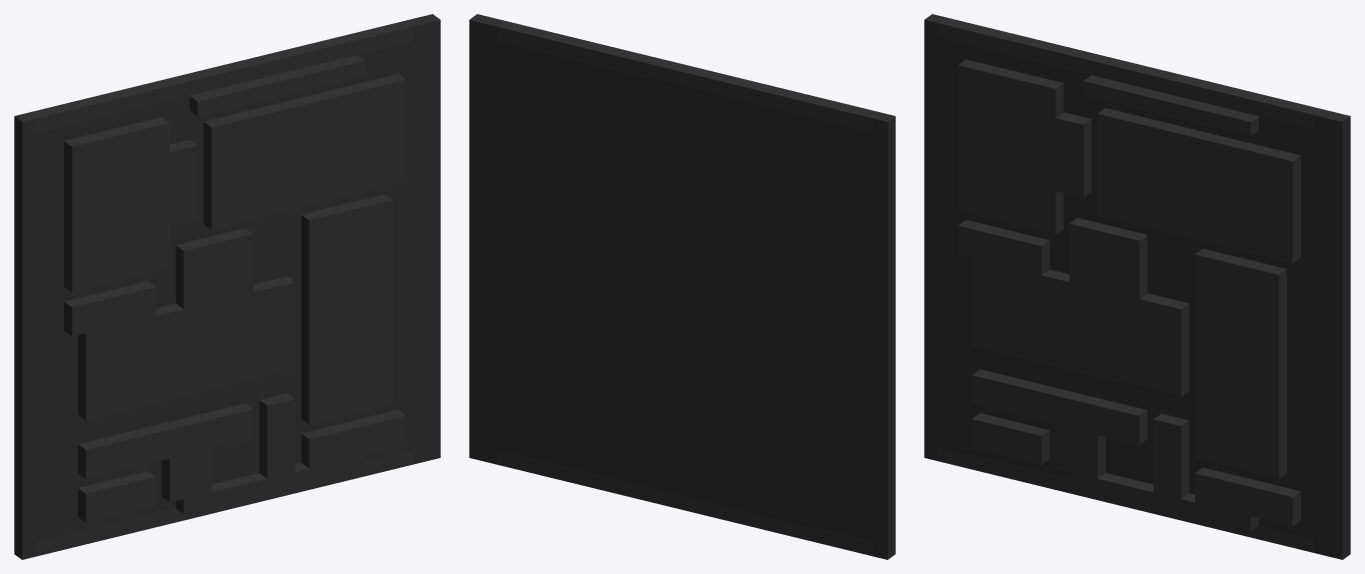
Rendered from roofTile.obj.
3 views of the same model, side by side, from view 1: azimuth 30°, elevation 25°; view 2: azimuth 150°, elevation 25°; view 3: azimuth 330°, elevation 25° (orthographic).
Visible parts, largest first — view 1: roofTile; view 2: roofTile; view 3: roofTile.
Part boxes in pixels (x1=…): roofTile: x1=14, y1=14, x2=440, y2=559; roofTile: x1=469, y1=14, x2=895, y2=559; roofTile: x1=924, y1=14, x2=1350, y2=559.
Bounding box in the file's own units: 30 × 30 × 2.
Materials: 1 (1 with a texture image).
